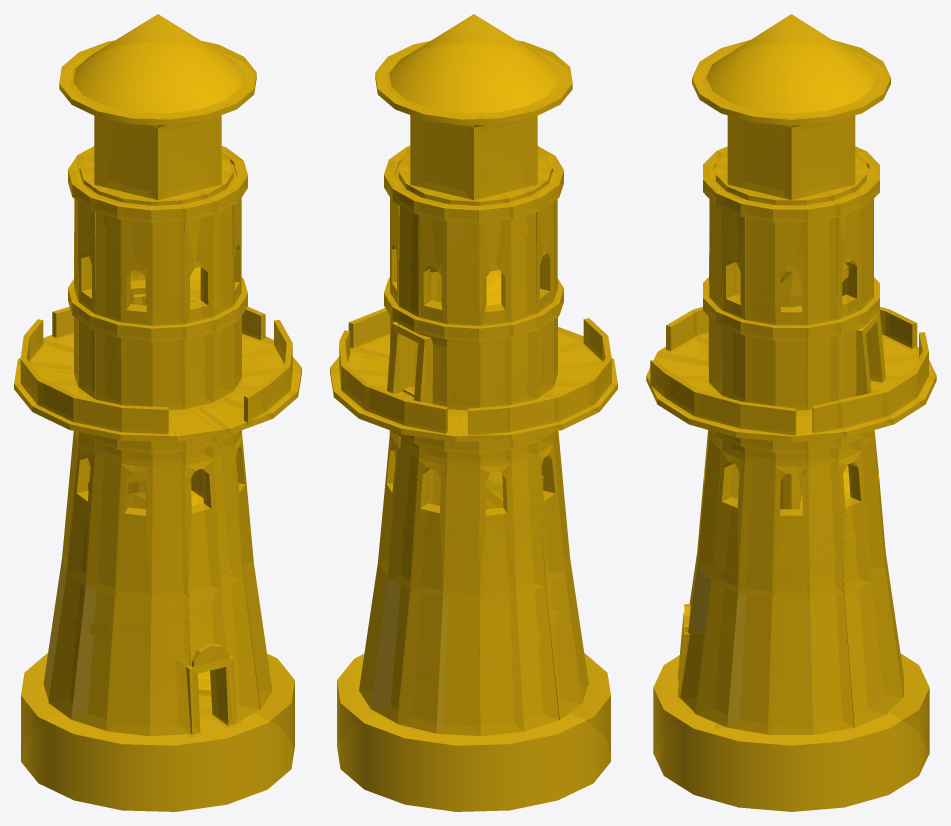
File: SM_Bld_Lighthouse_01_Collision.fbx
The picture shows the model from 3 angles, left to right: view 1: azimuth 30°, elevation 25°; view 2: azimuth 150°, elevation 25°; view 3: azimuth 270°, elevation 25°; orthographic projection.
Parts seen in each view (by area): view 1: SM_Bld_Lighthouse_01_Collision; view 2: SM_Bld_Lighthouse_01_Collision; view 3: SM_Bld_Lighthouse_01_Collision.
Part boxes in pixels (x1,y1,x2,y2): SM_Bld_Lighthouse_01_Collision: [14, 14, 301, 811]; SM_Bld_Lighthouse_01_Collision: [330, 14, 617, 811]; SM_Bld_Lighthouse_01_Collision: [646, 14, 936, 811].
Size of the model in its own units: 891 by 2507 by 891.
